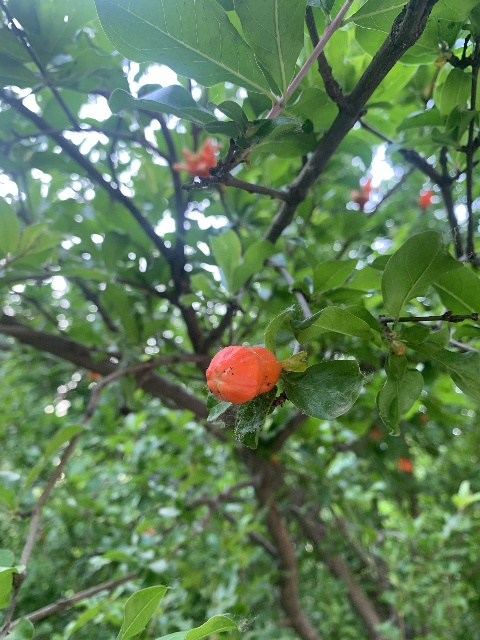bud: (206, 344, 280, 404)
flower: (172, 136, 220, 178)
